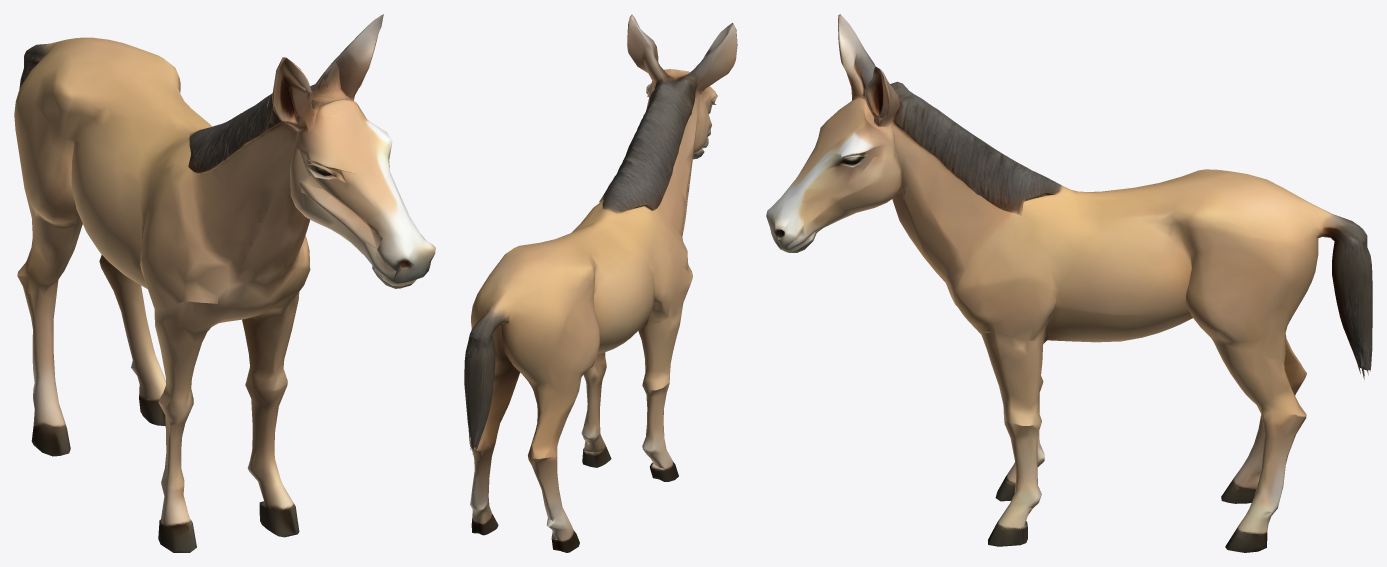
File: onager.glb
The picture shows the model from 3 angles, left to right: view 1: azimuth 30°, elevation 25°; view 2: azimuth 150°, elevation 25°; view 3: azimuth 270°, elevation 25°; orthographic projection. The views are drawn at different scales.
Parts seen in each view (by area): view 1: onager.001; view 2: onager.001; view 3: onager.001.
Part boxes in pixels (<box>): onager.001: <box>14,14,435,552</box>; onager.001: <box>464,14,737,552</box>; onager.001: <box>766,14,1372,552</box>.
Bounding box in the file's own units: 0.3807 × 1.35 × 1.52.
Materials: 1 (1 with a texture image).
